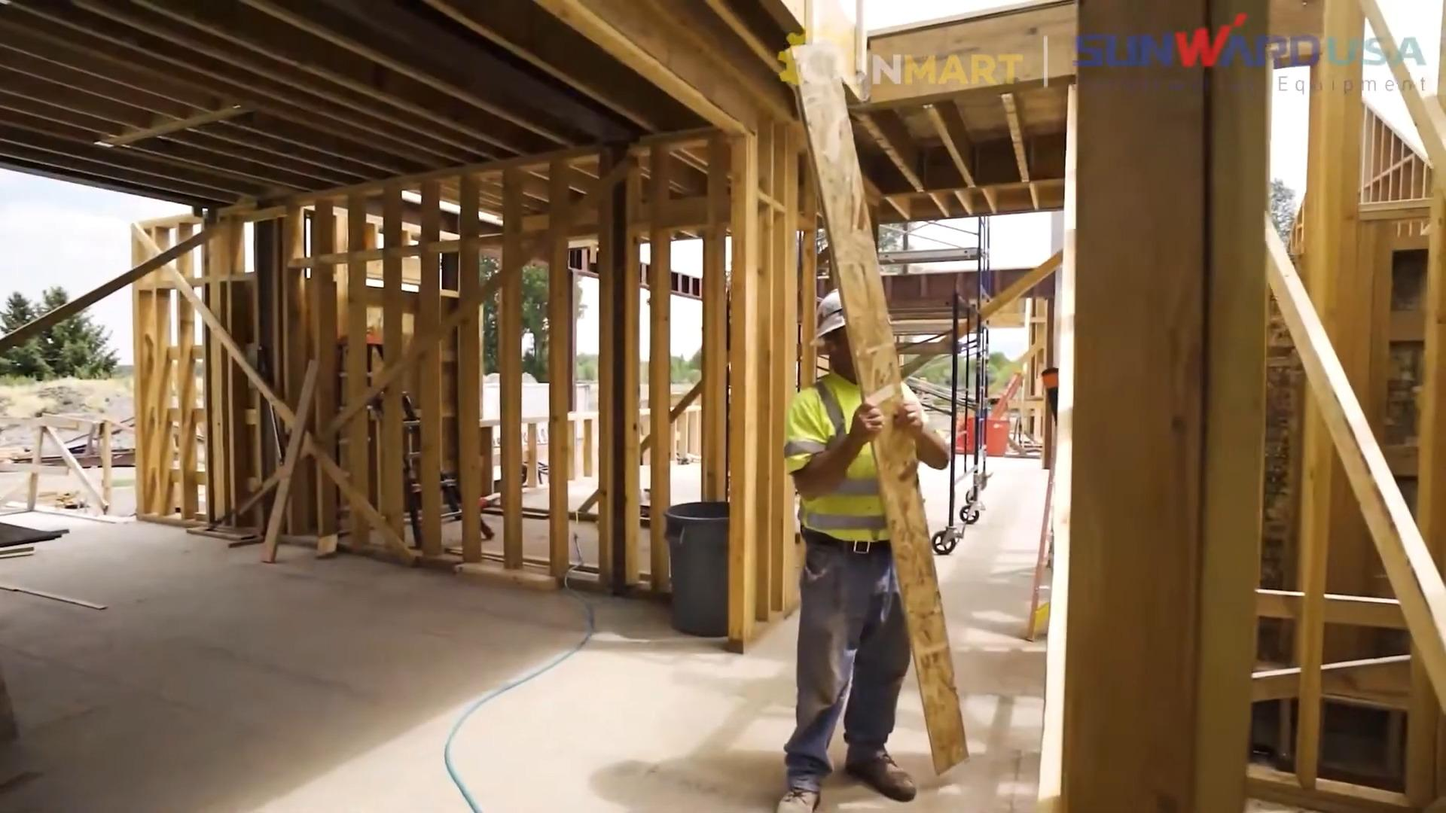Helmet: (807, 288, 877, 338)
Person: (788, 289, 962, 813)
Safety Boot: (844, 748, 917, 802), (777, 787, 821, 813)
Safety Vest: (786, 370, 920, 543)
bare-arms: (841, 399, 892, 443), (897, 402, 921, 430)
